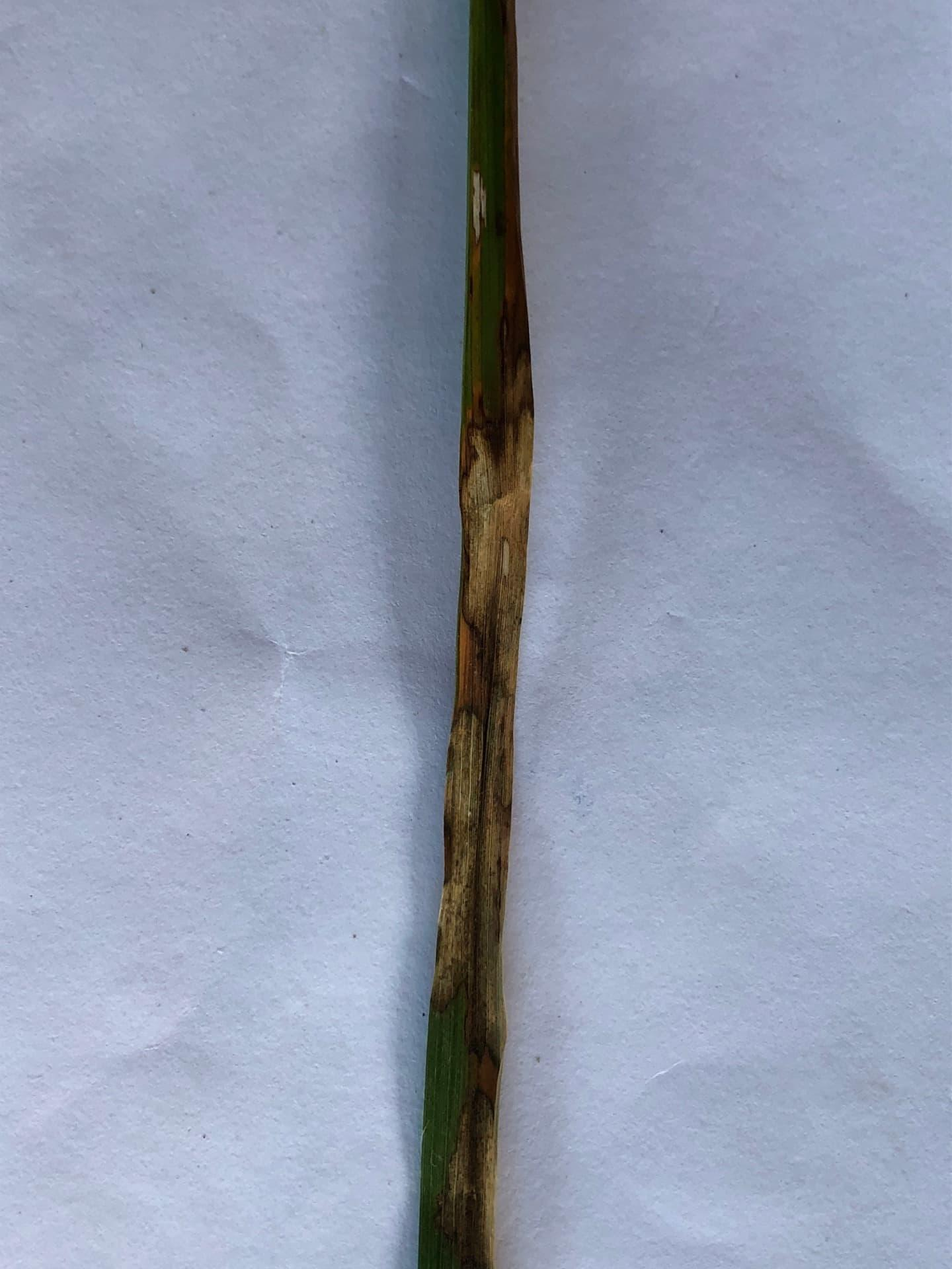Leaf Blight: (434, 0, 532, 1268)
